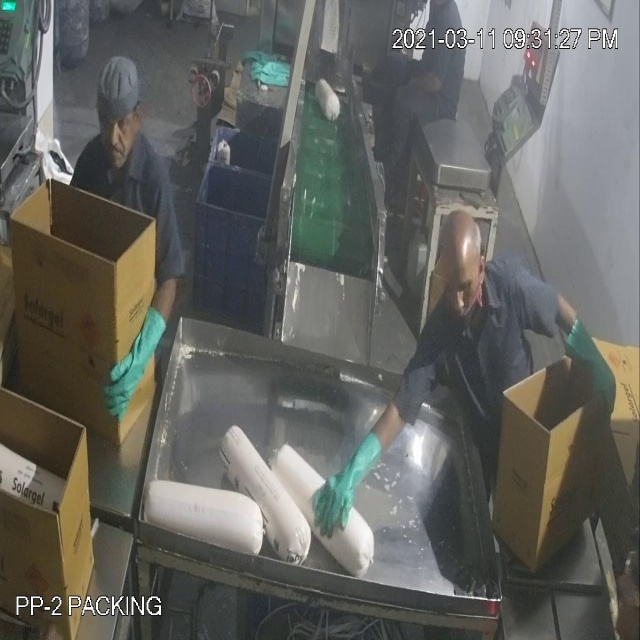Guantes: (305, 417, 388, 563), (97, 293, 167, 432), (563, 316, 618, 428)
